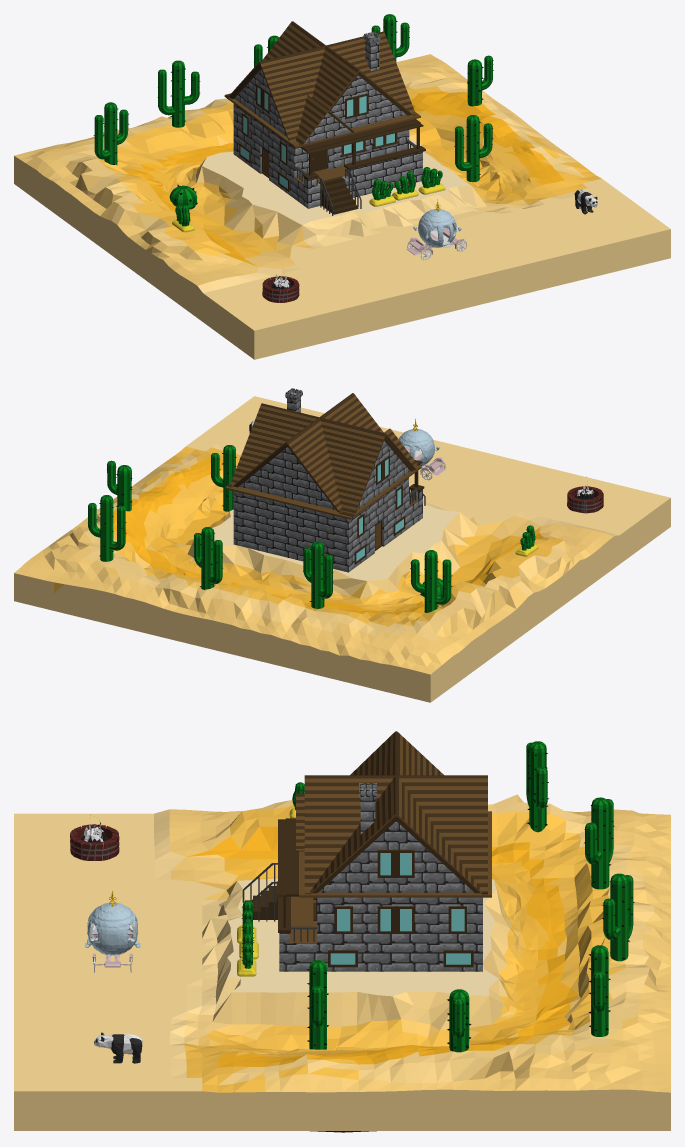
3 renders of one model, top to bottom at view 1: azimuth 30°, elevation 25°; view 2: azimuth 150°, elevation 25°; view 3: azimuth 270°, elevation 25°, orthographic. The views are drawn at different scales.
Parts seen in each view (by area): view 1: Cube.001, Cube.586, VEHICLES_FANTASY_CARRIAGE, Cylinder.037, Cylinder.044, Cylinder.045, Cylinder.038, OBJRANDOM_CAMPFIRE, Cylinder.042, Cylinder.039, Cylinder.041, Sphere.023 (+1 smaller); view 2: Cube.001, Cube.586, Cylinder.042, Cylinder.045, Cylinder.044, Cylinder.043, VEHICLES_FANTASY_CARRIAGE, Cylinder.037, Cylinder.038, OBJRANDOM_CAMPFIRE; view 3: Cube.001, Cube.586, VEHICLES_FANTASY_CARRIAGE, Cylinder.043, Cylinder.044, Cylinder.045, Cylinder.042, OBJRANDOM_CAMPFIRE, Cylinder.037, Cylinder.038, ANIMAL_PANDA, Cylinder.041.
Boxes of the visible parts, <box> form: Cube.001: <box>14,54,670,359</box>; Cube.586: <box>224,21,425,215</box>; VEHICLES_FANTASY_CARRIAGE: <box>406,199,467,260</box>; Cylinder.037: <box>454,115,493,182</box>; Cylinder.044: <box>157,60,200,127</box>; Cylinder.045: <box>93,102,129,164</box>; Cylinder.038: <box>467,55,493,106</box>; OBJRANDOM_CAMPFIRE: <box>262,274,299,302</box>; Cylinder.042: <box>371,14,409,62</box>; Cylinder.039: <box>369,179,395,206</box>; Cylinder.041: <box>418,167,445,194</box>; Sphere.023: <box>169,184,197,209</box>; Cube.001: <box>14,396,670,702</box>; Cube.586: <box>225,388,425,572</box>; Cylinder.042: <box>88,495,126,561</box>; Cylinder.045: <box>410,550,452,612</box>; Cylinder.044: <box>303,541,333,608</box>; Cylinder.043: <box>193,527,222,589</box>; VEHICLES_FANTASY_CARRIAGE: <box>398,419,446,480</box>; Cylinder.037: <box>211,445,240,511</box>; Cylinder.038: <box>107,460,132,511</box>; OBJRANDOM_CAMPFIRE: <box>567,485,603,513</box>; Cube.001: <box>14,794,670,1130</box>; Cube.586: <box>242,731,491,971</box>; VEHICLES_FANTASY_CARRIAGE: <box>85,891,140,972</box>; Cylinder.043: <box>602,873,634,961</box>; Cylinder.044: <box>584,797,614,889</box>; Cylinder.045: <box>526,741,548,832</box>; Cylinder.042: <box>588,945,610,1036</box>; OBJRANDOM_CAMPFIRE: <box>70,820,119,860</box>; Cylinder.037: <box>307,960,328,1049</box>; Cylinder.038: <box>447,989,471,1052</box>; ANIMAL_PANDA: <box>94,1032,142,1063</box>; Cylinder.041: <box>237,933,256,976</box>.
Bounding box in the file's own units: 4002 × 1702 × 4001.
26 materials, 3 textured.
